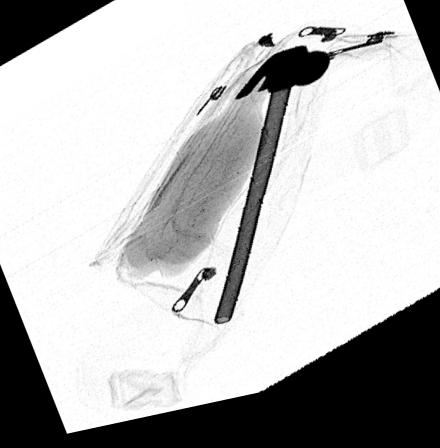Hammer: (214, 56, 331, 334)
